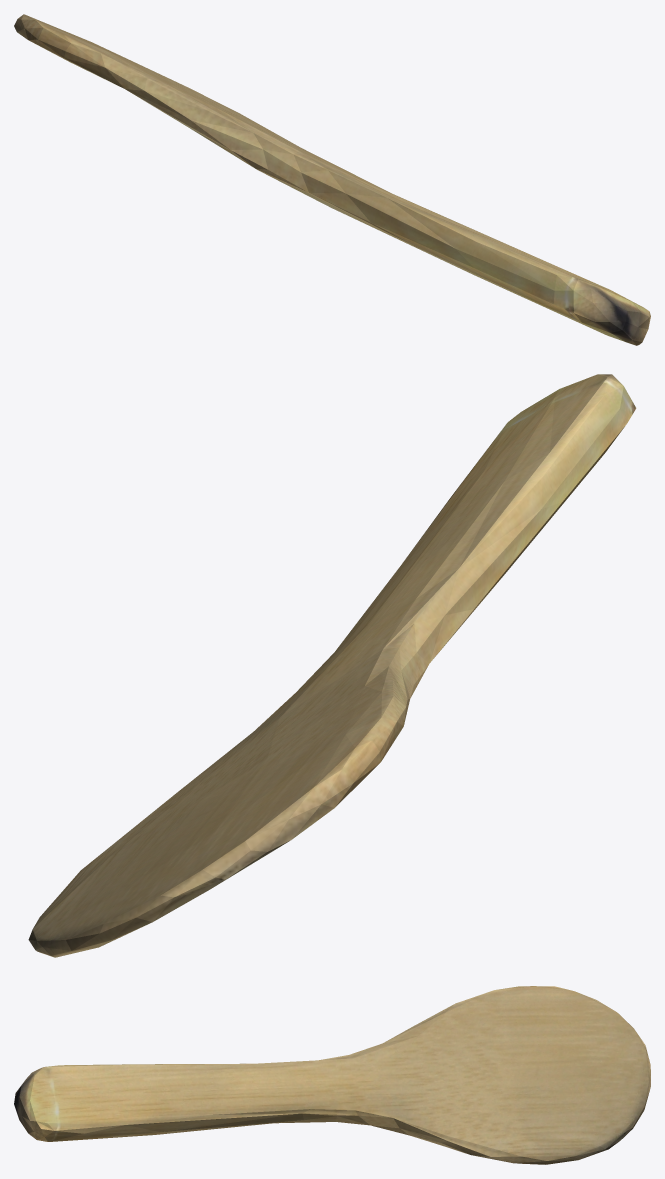
Rendered from export-small.obj.
The picture shows the model from 3 angles, top to bottom: view 1: azimuth 30°, elevation 25°; view 2: azimuth 150°, elevation 25°; view 3: azimuth 270°, elevation 25°; orthographic projection. The views are drawn at different scales.
Bounding box in the file's own units: 65.07 × 38.54 × 202.
Materials: 1 (1 with a texture image).
